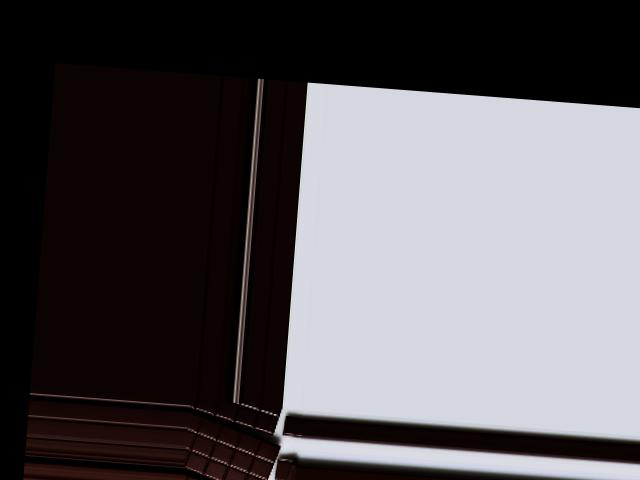chocolate: (181, 414, 281, 480)
